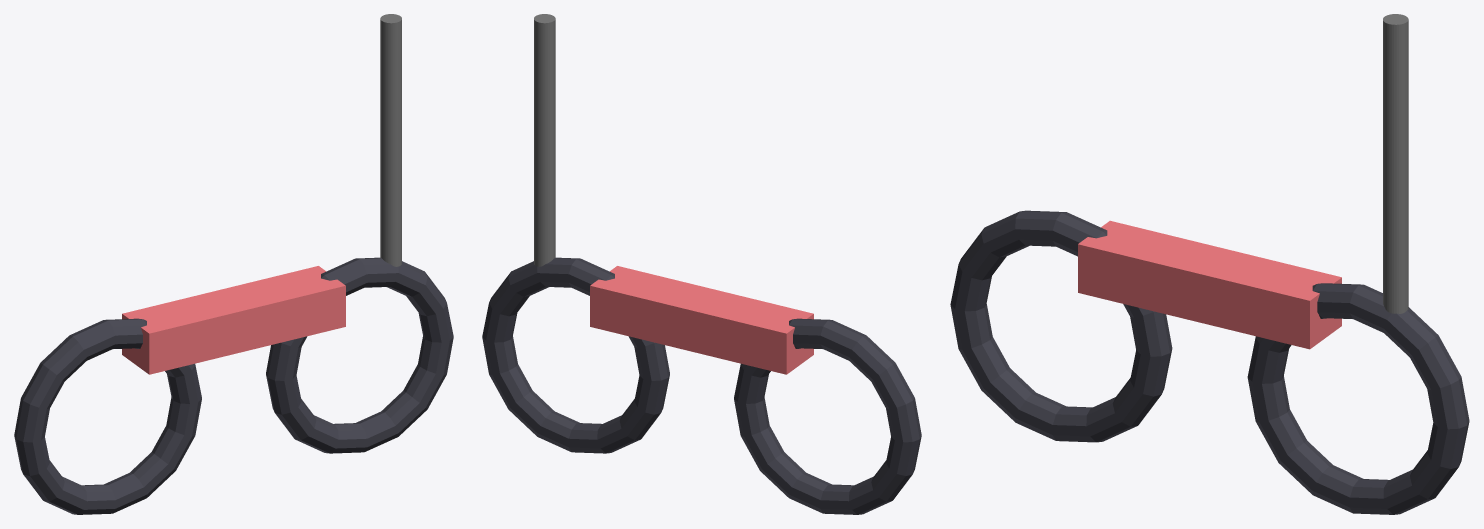
The model's file is pickup.scooter.v1.glb.
The picture shows the model from 3 angles, left to right: view 1: azimuth 30°, elevation 25°; view 2: azimuth 150°, elevation 25°; view 3: azimuth 330°, elevation 25°; orthographic projection. The views are drawn at different scales.
Visible parts, largest first — view 1: pickup.scooter.v1_wheel_b, pickup.scooter.v1_body, pickup.scooter.v1_wheel_f, pickup.scooter.v1_handle; view 2: pickup.scooter.v1_wheel_b, pickup.scooter.v1_body, pickup.scooter.v1_wheel_f, pickup.scooter.v1_handle; view 3: pickup.scooter.v1_body, pickup.scooter.v1_wheel_f, pickup.scooter.v1_wheel_b, pickup.scooter.v1_handle.
Part boxes in pixels (bbox=[...]): pickup.scooter.v1_wheel_b: bbox=[14, 318, 201, 514]; pickup.scooter.v1_body: bbox=[122, 266, 345, 374]; pickup.scooter.v1_wheel_f: bbox=[266, 257, 453, 453]; pickup.scooter.v1_handle: bbox=[380, 14, 401, 266]; pickup.scooter.v1_wheel_b: bbox=[734, 318, 921, 514]; pickup.scooter.v1_body: bbox=[590, 266, 813, 374]; pickup.scooter.v1_wheel_f: bbox=[482, 257, 669, 453]; pickup.scooter.v1_handle: bbox=[534, 14, 555, 266]; pickup.scooter.v1_body: bbox=[1078, 220, 1341, 349]; pickup.scooter.v1_wheel_f: bbox=[1247, 283, 1469, 514]; pickup.scooter.v1_wheel_b: bbox=[950, 210, 1172, 442]; pickup.scooter.v1_handle: bbox=[1383, 14, 1408, 313].
Bounding box in the file's own units: 0.554 × 0.517 × 0.06.
